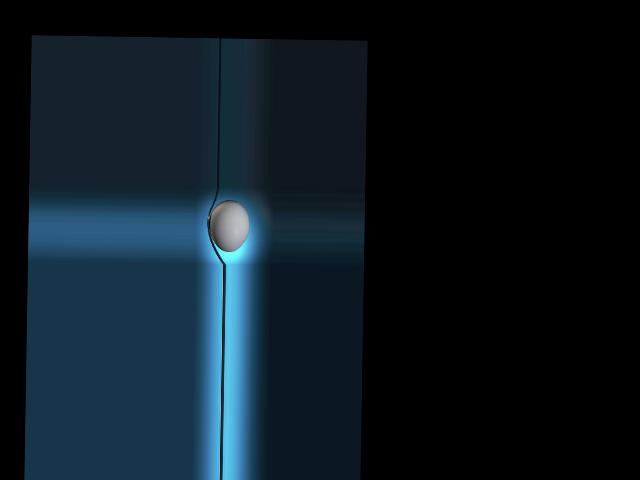egg: (209, 199, 249, 252)
